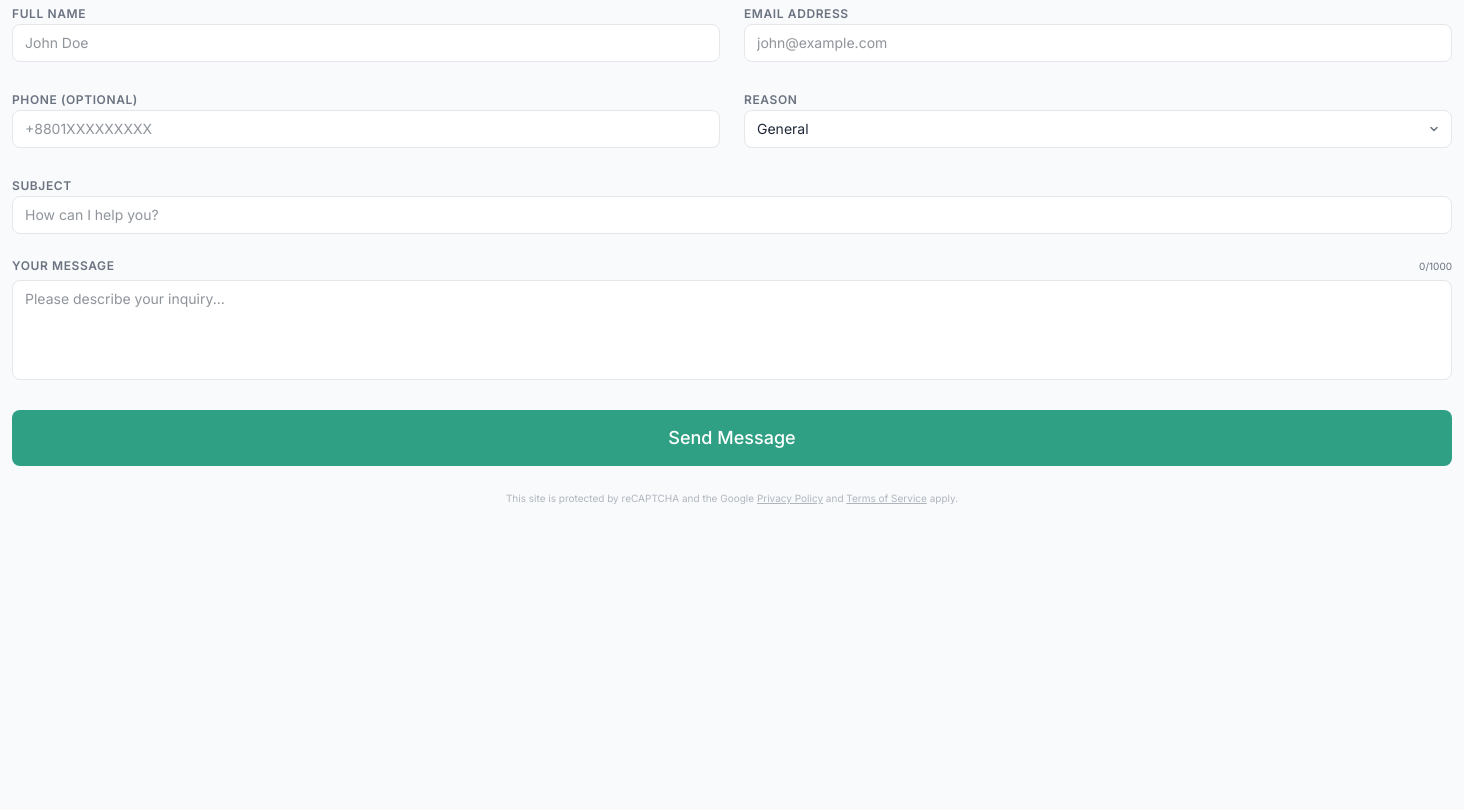
it: ContactForm › shows validation errors on empty submit
This screenshot has width=1464, height=810.
Step 1. Click the button "Send Message" → point(732, 438), box [12,410,1452,466]
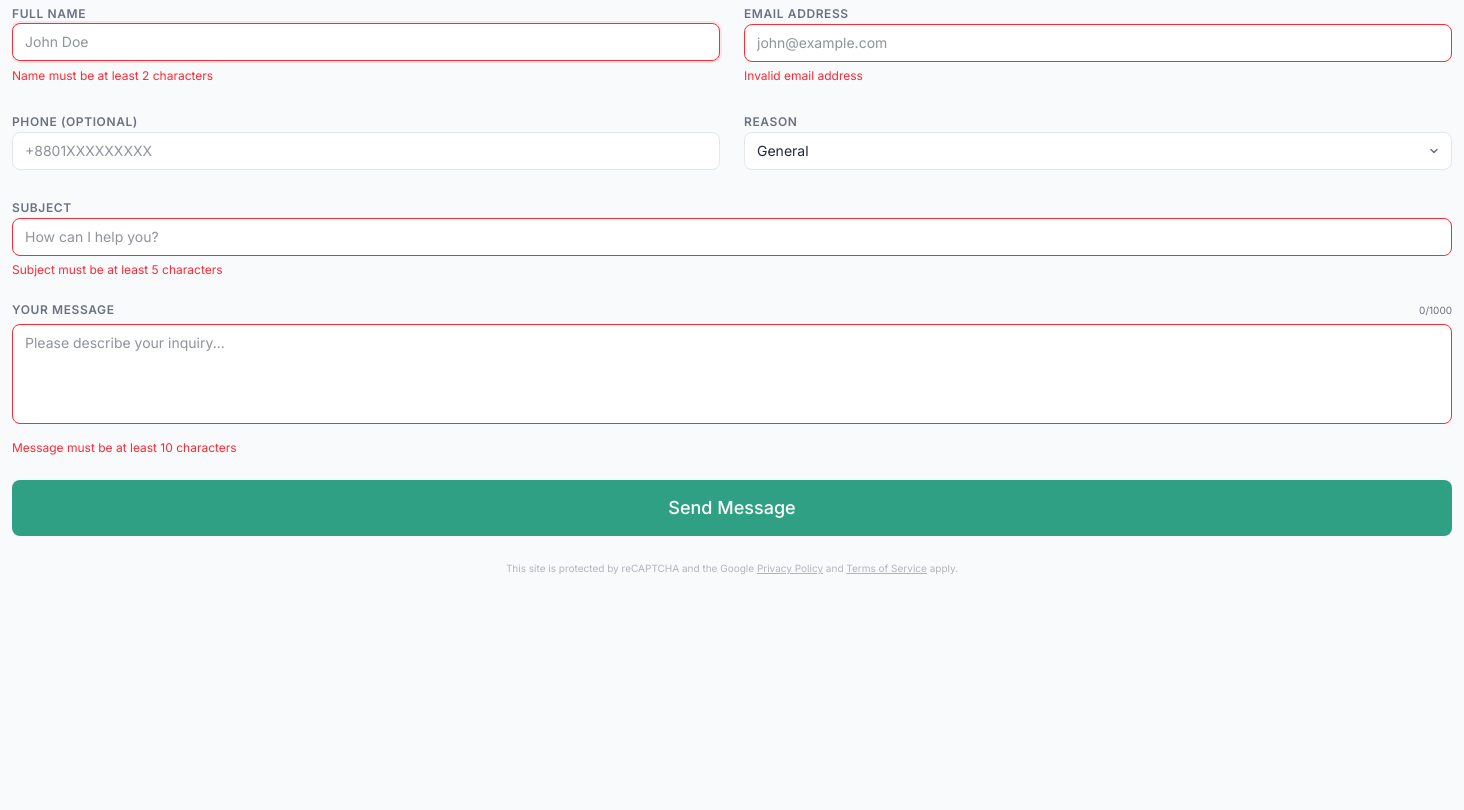
Check: the text "Name must be at least 2 characters" is shown, box [12,68,213,83]
Check: the text "Invalid email address" is shown, box [744,68,863,83]
Check: the text "Subject must be at least 5 characters" is shown, box [12,262,222,277]
